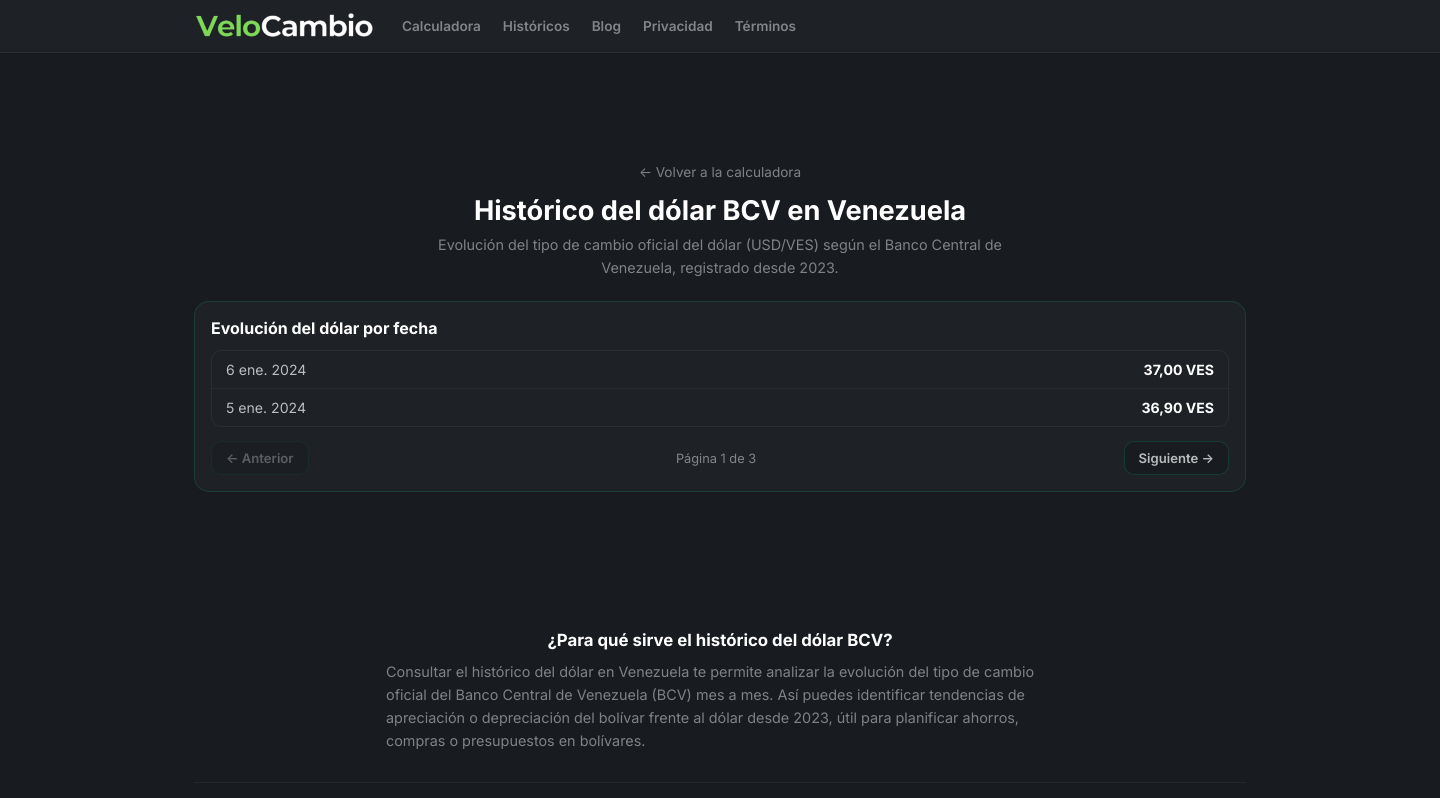
Test case: HistoricoPageComponent › Siguiente navega hacia fechas más antiguas
The width and height of the screenshot is (1440, 798).
Click the button "Siguiente →". click: x=1176, y=458
box: [1124,441,1229,475]
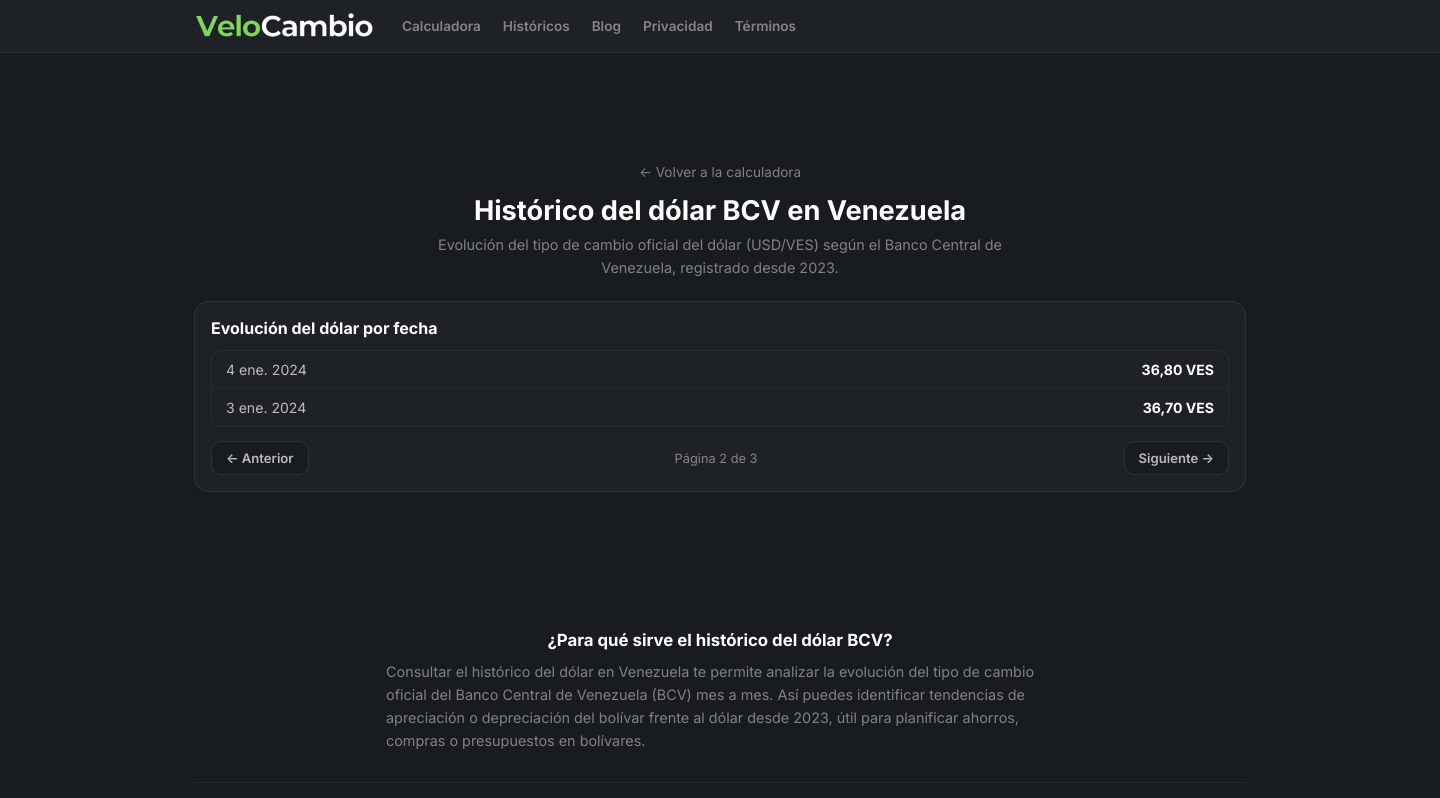
Click the button "Siguiente →". click: x=1176, y=458
box: [1124,441,1229,475]
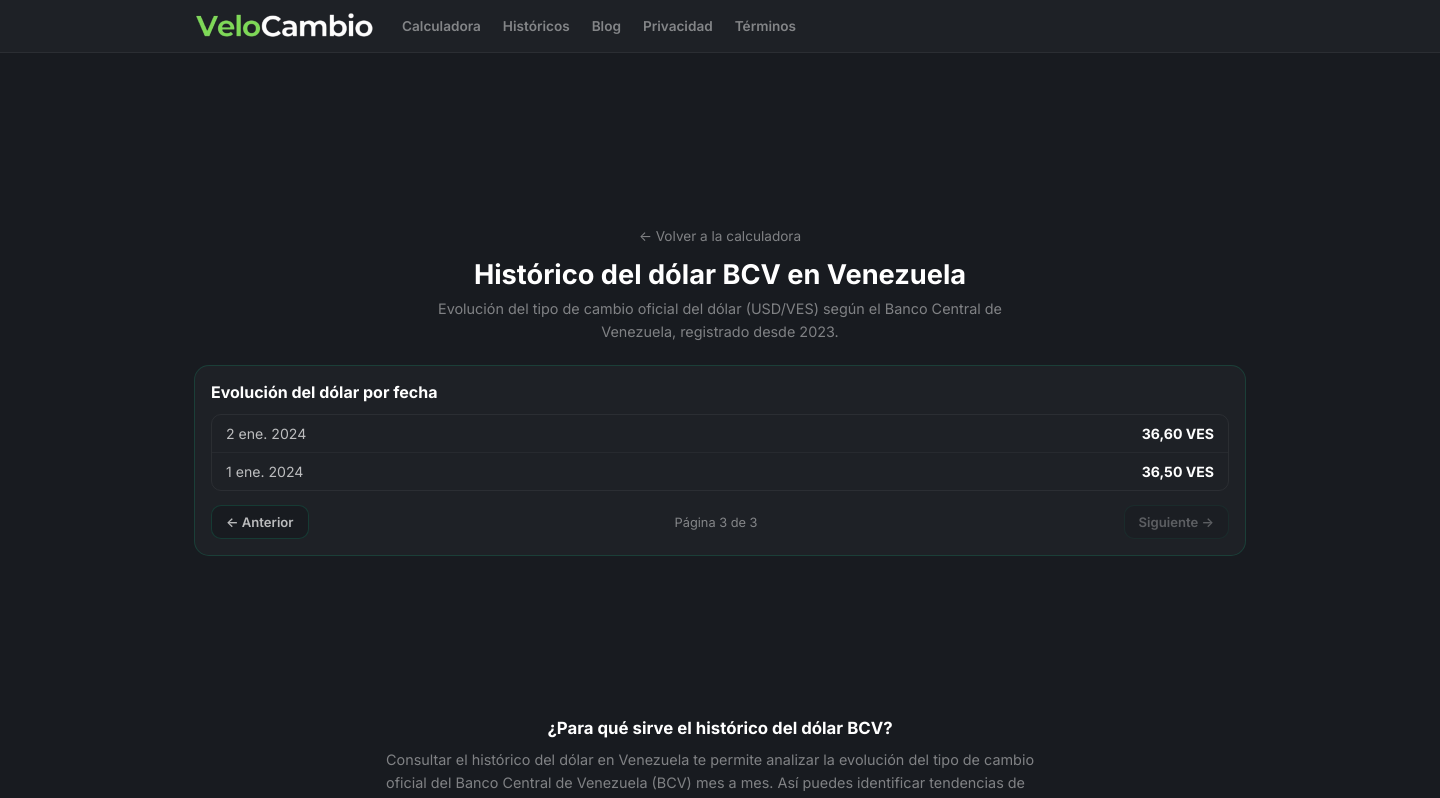
Result: the button "Siguiente →" is disabled at [1124,505,1229,539]
